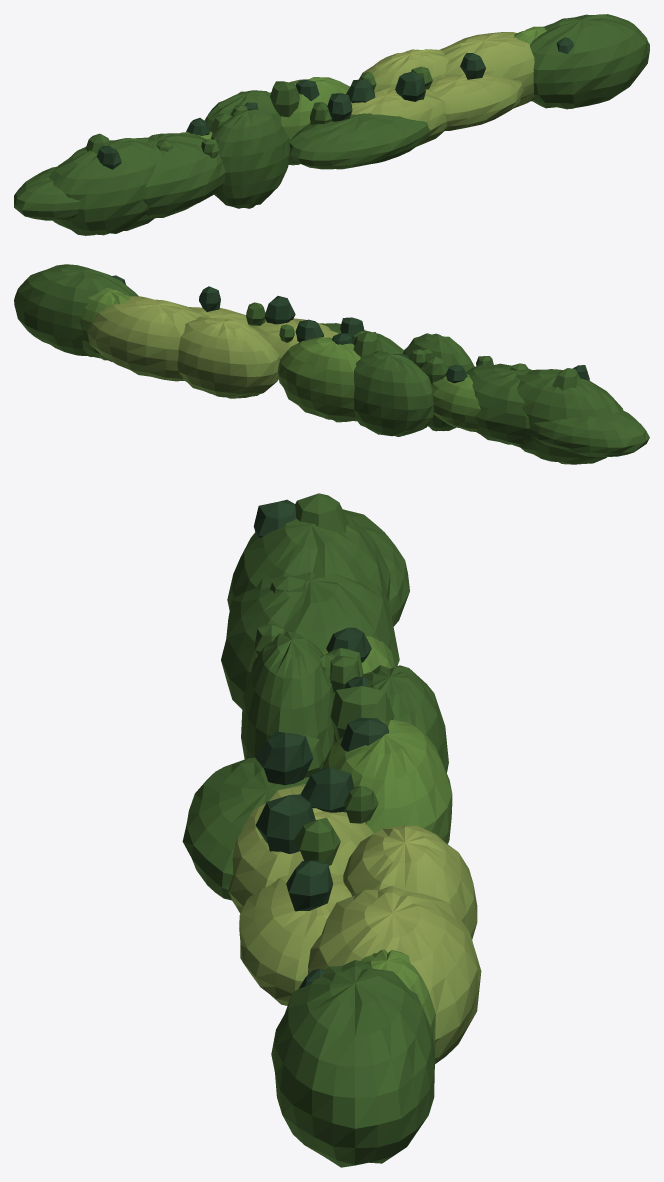
Rendered from hills.glb.
The picture shows the model from 3 angles, top to bottom: view 1: azimuth 30°, elevation 25°; view 2: azimuth 150°, elevation 25°; view 3: azimuth 270°, elevation 25°; orthographic projection. The views are drawn at different scales.
Parts seen in each view (by area): view 1: hills; view 2: hills; view 3: hills.
Part boxes in pixels (bbox=[...]): hills: bbox=[14, 14, 649, 235]; hills: bbox=[14, 264, 649, 464]; hills: bbox=[182, 493, 481, 1167].
Size of the model in its own units: 112 by 17.03 by 23.27.
